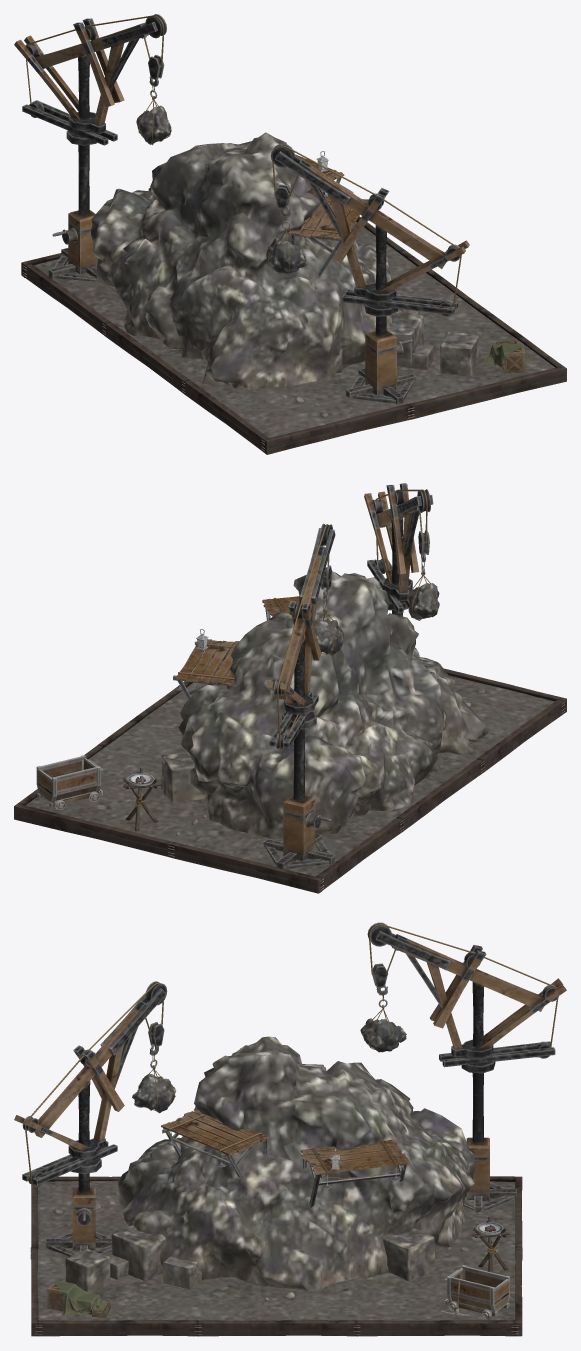
File: SM_StonePitLarge_c47ae9.glb
The picture shows the model from 3 angles, top to bottom: view 1: azimuth 30°, elevation 25°; view 2: azimuth 150°, elevation 25°; view 3: azimuth 270°, elevation 25°; orthographic projection.
Size of the model in its own units: 9 by 9.46 by 14.31.
Materials: 3 (3 with a texture image).
